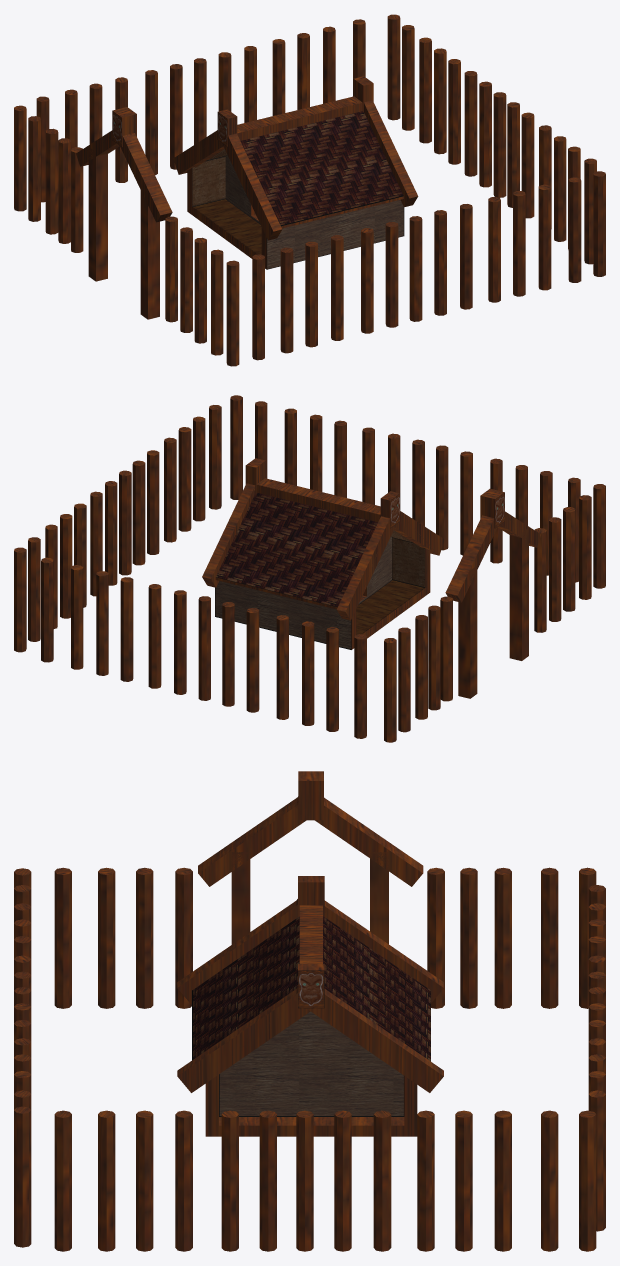
File: Maori_Temple.dae
3 renders of one model, top to bottom at view 1: azimuth 30°, elevation 25°; view 2: azimuth 150°, elevation 25°; view 3: azimuth 270°, elevation 25°, orthographic. The views are drawn at different scales.
Visible parts, largest first — view 1: Cylinder.052; view 2: Cylinder.052; view 3: Cylinder.052.
Part boxes in pixels (bbox=[...]): Cylinder.052: bbox=[14, 14, 605, 366]; Cylinder.052: bbox=[14, 395, 605, 742]; Cylinder.052: bbox=[14, 771, 605, 1251].
Size of the model in its own units: 27.59 by 27.5 by 12.56.
1 material, 1 textured.
